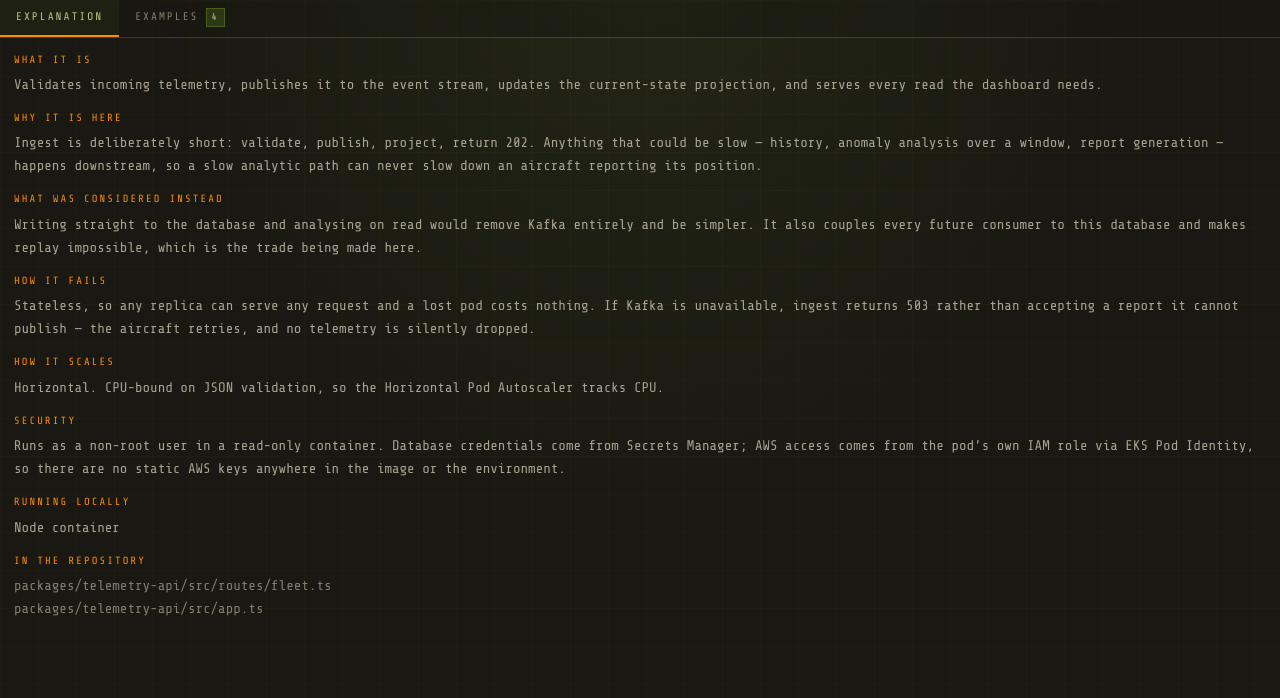
Scenario: NodeDetail tabs › switches to the examples
This screenshot has width=1280, height=698.
Click the tab "Examples 4" at point(180, 18), box left=119, top=0, right=241, bottom=36
(page scrolled)
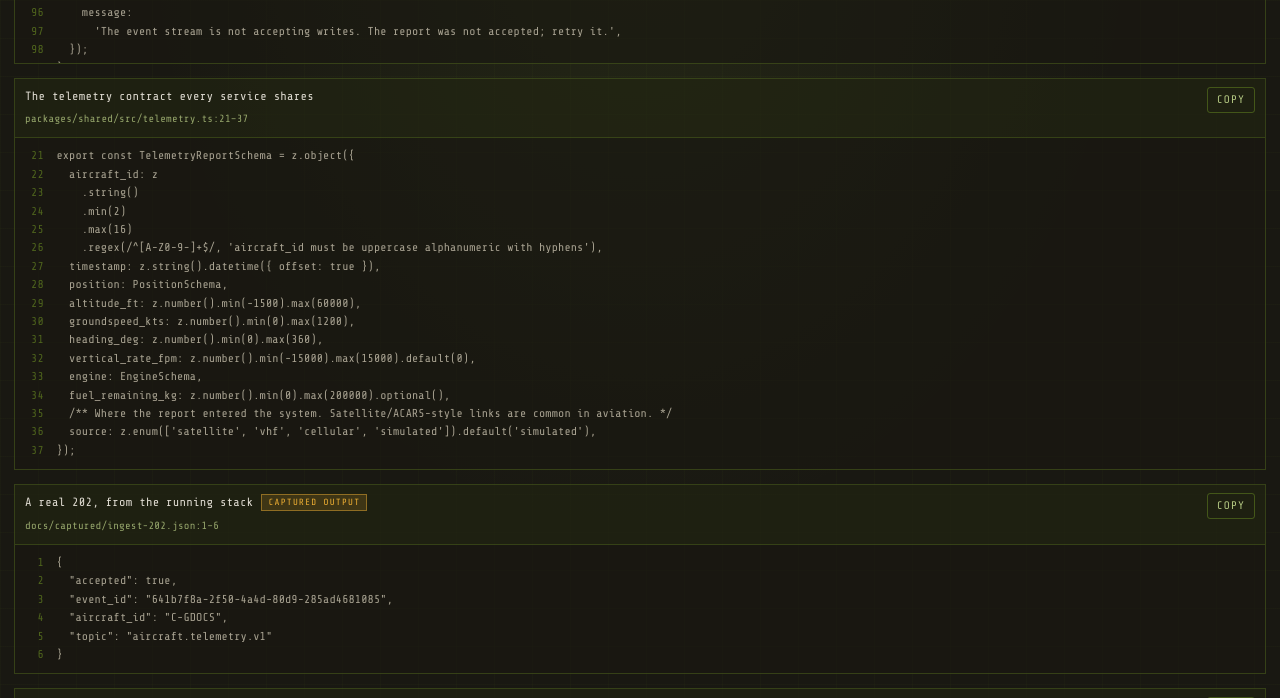
Check: the text "What it is" is gone
